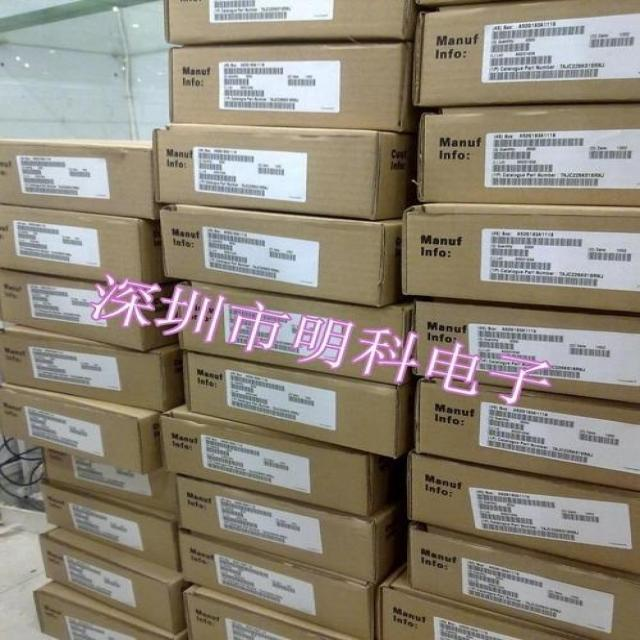box: (407, 452, 640, 574), (407, 521, 640, 640), (403, 203, 640, 314), (160, 402, 387, 517), (412, 378, 640, 492), (152, 124, 417, 221), (175, 474, 404, 585), (174, 281, 413, 387), (183, 352, 419, 458), (159, 204, 401, 307), (412, 0, 640, 107), (413, 300, 640, 403), (169, 42, 410, 133), (179, 530, 378, 640), (417, 109, 640, 205), (37, 527, 195, 636), (375, 562, 589, 640), (0, 324, 184, 412), (0, 203, 174, 290), (0, 268, 177, 352), (0, 384, 161, 475), (0, 138, 156, 220), (41, 482, 180, 572), (165, 0, 416, 45), (182, 585, 362, 640), (42, 447, 177, 514), (33, 582, 177, 640)
